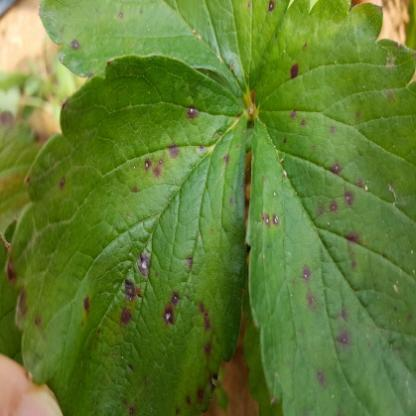Strawberry_Leaf_Spot: (5, 54, 248, 415), (246, 0, 416, 415), (36, 0, 290, 104)
